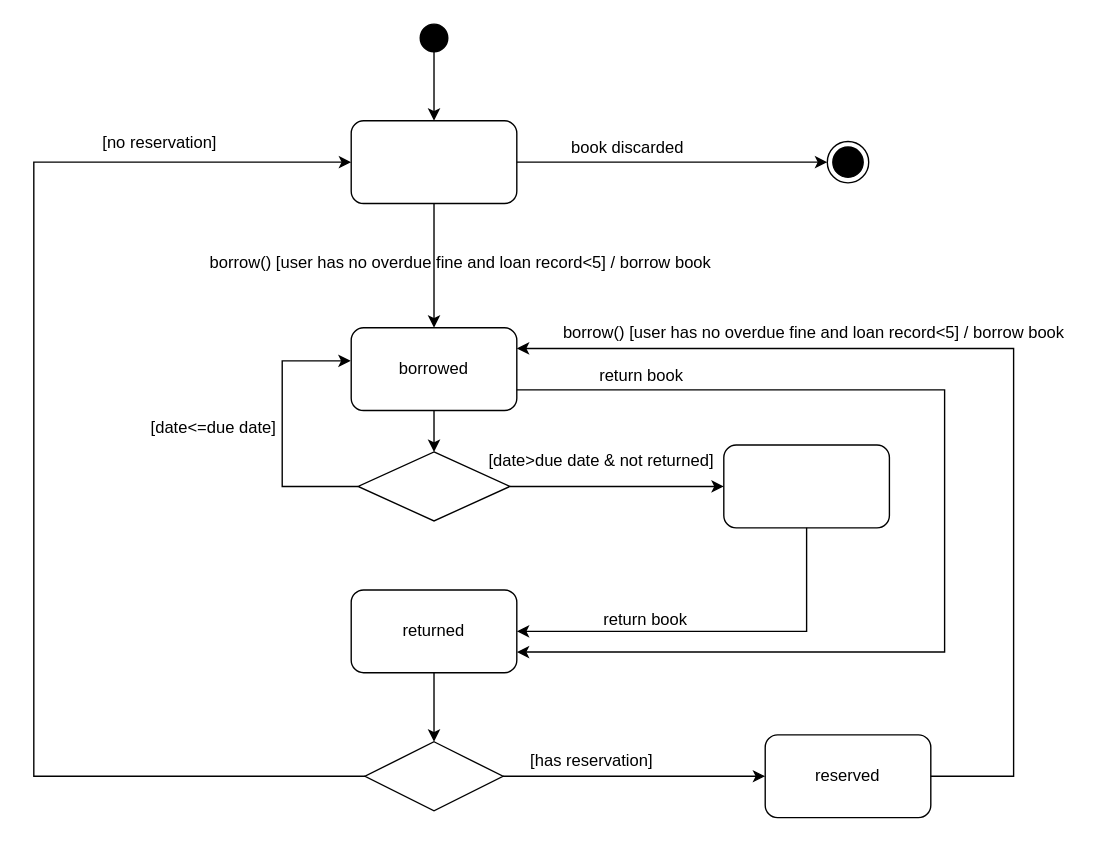
Some shapes in this 1107 by 842 pixel diagram are drawn without their labels. The box of each missing label's shape, as (x1, y1, x2, y2) in pixels:
available: (350, 119, 517, 204)
overdue: (722, 444, 889, 528)
